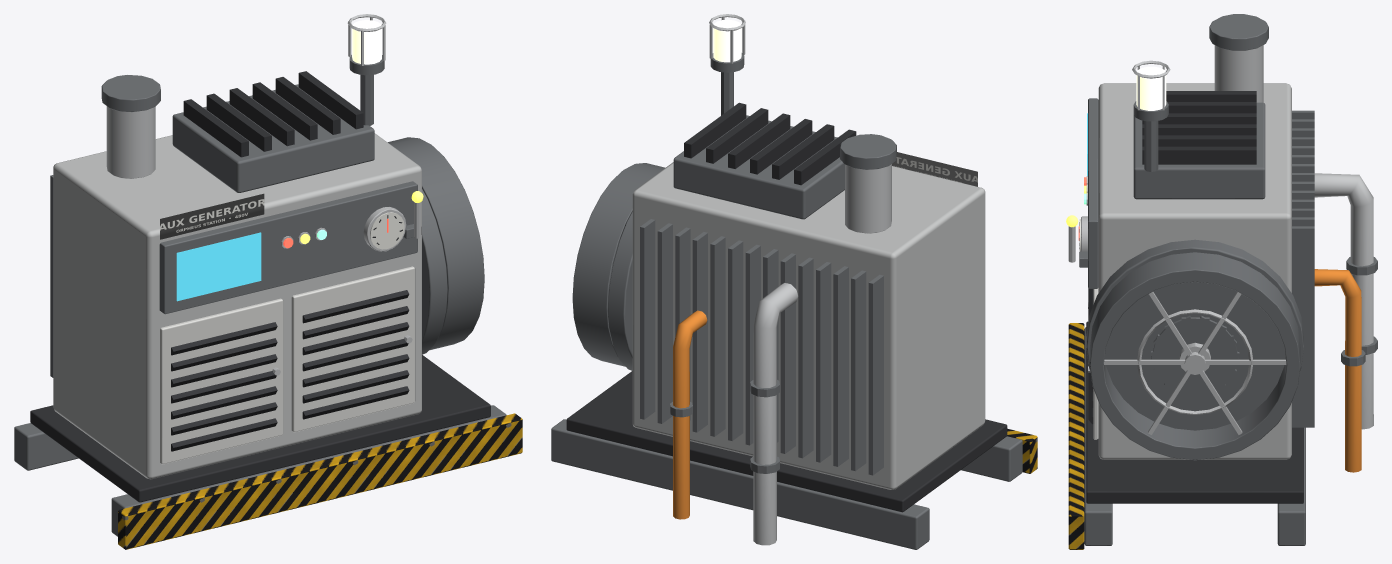
The model's file is generator.glb.
The picture shows the model from 3 angles, left to right: view 1: azimuth 30°, elevation 25°; view 2: azimuth 150°, elevation 25°; view 3: azimuth 270°, elevation 25°; orthographic projection. The views are drawn at different scales.
Parts seen in each view (by area): view 1: generator; view 2: generator; view 3: generator, Fan, Lever.
Boxes of the visible parts, box(x1,y1,x2,y2) form: generator: box(14, 14, 522, 549); generator: box(551, 14, 1037, 549); generator: box(1068, 14, 1377, 549); Fan: box(1151, 315, 1239, 396); Lever: box(1066, 215, 1087, 267).
Bounding box in the file's own units: 2.6 × 2.68 × 1.77.
14 materials, 2 textured.
